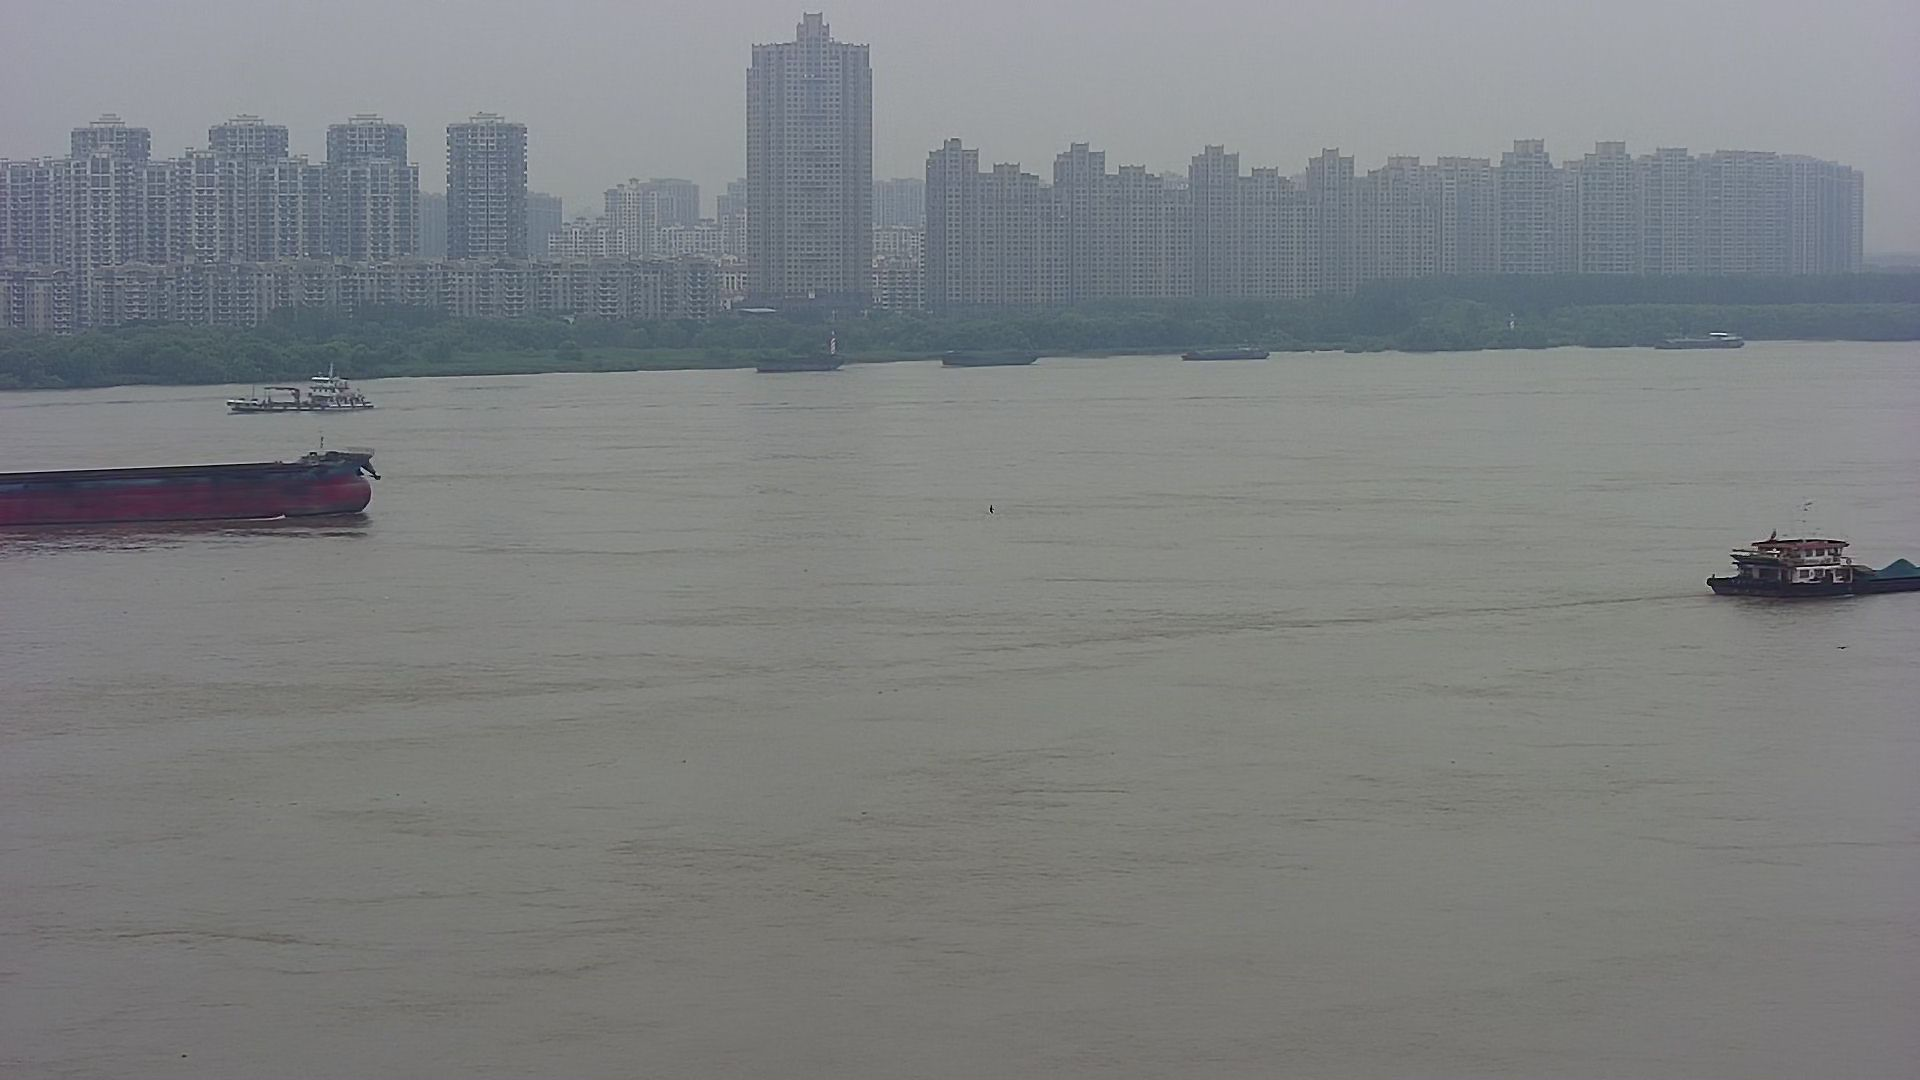ship: (3, 434, 398, 531), (1695, 517, 1920, 622), (218, 365, 389, 423), (936, 336, 1047, 375), (746, 345, 855, 382), (1648, 320, 1754, 353), (1178, 336, 1273, 364)
